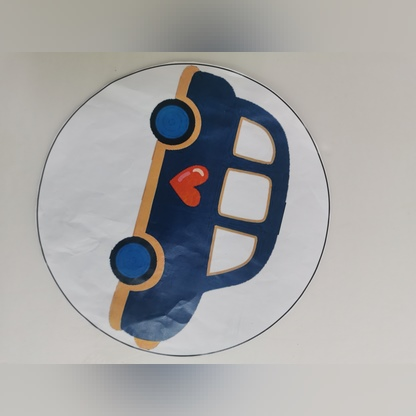car: (97, 56, 312, 353)
